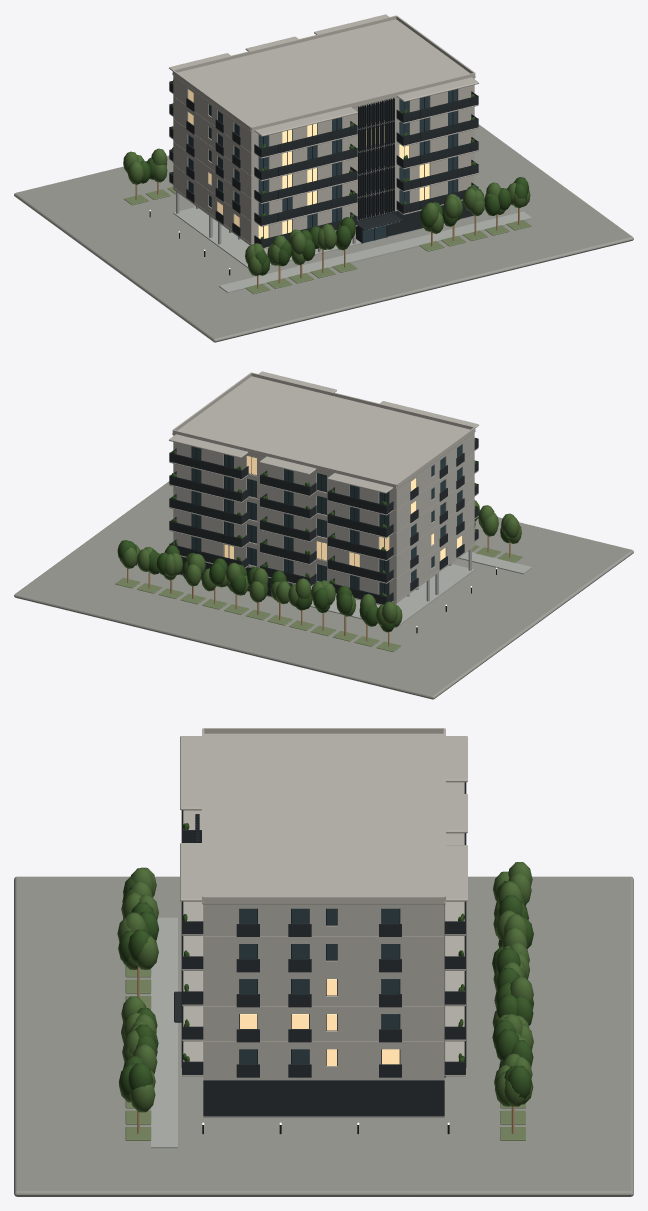
File: exterior-no-balconies.glb
The picture shows the model from 3 angles, top to bottom: view 1: azimuth 30°, elevation 25°; view 2: azimuth 150°, elevation 25°; view 3: azimuth 270°, elevation 25°; orthographic projection. The views are drawn at different scales.
Visible parts, largest first — view 1: Presentation site, Roof slab — inferred termination, Front footpath, Ground floor slab, Roof parapet — inferred, Roof parapet — inferred.001, Front balcony roof, 5NP front balcony cladding, 3NP front balcony cladding, 4NP front balcony cladding, 6NP front balcony cladding, Ground floor enclosed core (+5 smaller); view 2: Presentation site, Roof slab — inferred termination, Ground floor slab, Roof parapet — inferred.001, Roof parapet — inferred, Rear balcony roof.002, 6NP rear balcony cladding.002, 3NP rear balcony cladding.002, 5NP rear balcony cladding.002, 4NP rear balcony cladding.002, Front footpath, Rear balcony roof (+5 smaller); view 3: Presentation site, Roof slab — inferred termination, Ground floor enclosed core, Front footpath, 3NP east lower wall, 5NP east lower wall, 2NP east lower wall, 4NP east lower wall, 6NP east lower wall, Roof parapet — inferred.003, Front balcony roof, 2NP east lintel (+29 smaller).
Boxes of the visible parts, <box> form: Presentation site: <box>14,124,633,342</box>; Roof slab — inferred termination: <box>172,19,475,132</box>; Front footpath: <box>219,211,532,292</box>; Ground floor slab: <box>173,207,474,268</box>; Roof parapet — inferred: <box>251,73,475,131</box>; Roof parapet — inferred.001: <box>173,15,396,72</box>; Front balcony roof: <box>254,107,357,136</box>; 5NP front balcony cladding: <box>261,148,357,180</box>; 3NP front balcony cladding: <box>261,194,357,225</box>; 4NP front balcony cladding: <box>261,171,357,202</box>; 6NP front balcony cladding: <box>261,126,357,157</box>; Ground floor enclosed core: <box>356,200,473,242</box>; Presentation site: <box>14,481,633,699</box>; Roof slab — inferred termination: <box>172,376,475,489</box>; Ground floor slab: <box>179,564,474,627</box>; Roof parapet — inferred.001: <box>172,430,396,488</box>; Roof parapet — inferred: <box>251,372,474,429</box>; Rear balcony roof.002: <box>169,434,248,458</box>; 6NP rear balcony cladding.002: <box>169,453,241,478</box>; 3NP rear balcony cladding.002: <box>169,521,241,547</box>; 5NP rear balcony cladding.002: <box>169,476,241,501</box>; 4NP rear balcony cladding.002: <box>169,499,241,524</box>; Front footpath: <box>458,551,532,574</box>; Rear balcony roof: <box>327,473,393,493</box>; Presentation site: <box>14,876,633,1196</box>; Roof slab — inferred termination: <box>202,733,445,904</box>; Ground floor enclosed core: <box>203,1080,444,1116</box>; Front footpath: <box>151,917,177,1148</box>; 3NP east lower wall: <box>203,1031,444,1041</box>; 5NP east lower wall: <box>203,960,444,971</box>; 2NP east lower wall: <box>203,1066,444,1076</box>; 4NP east lower wall: <box>203,996,444,1006</box>; 6NP east lower wall: <box>203,925,442,936</box>; Roof parapet — inferred.003: <box>203,896,444,902</box>; Front balcony roof: <box>180,736,201,810</box>; 2NP east lintel: <box>203,1044,444,1049</box>.
Bounding box in the file's own units: 58 × 19.39 × 48.
